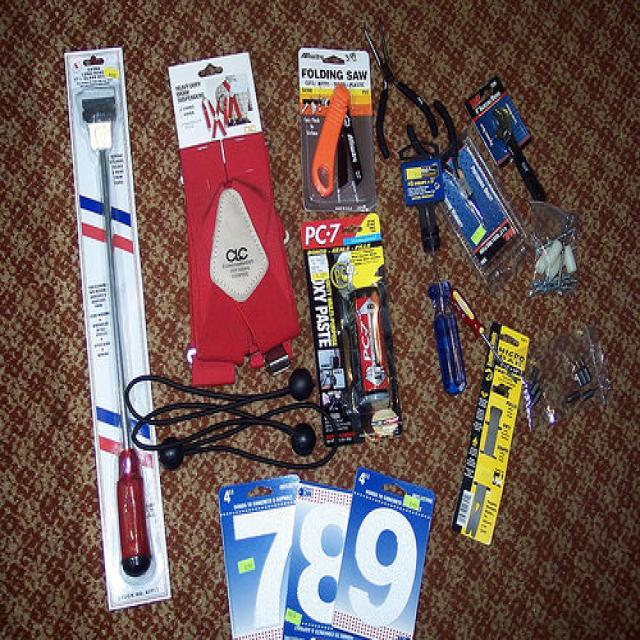screw driver: (64, 127, 168, 594), (407, 200, 480, 400)
